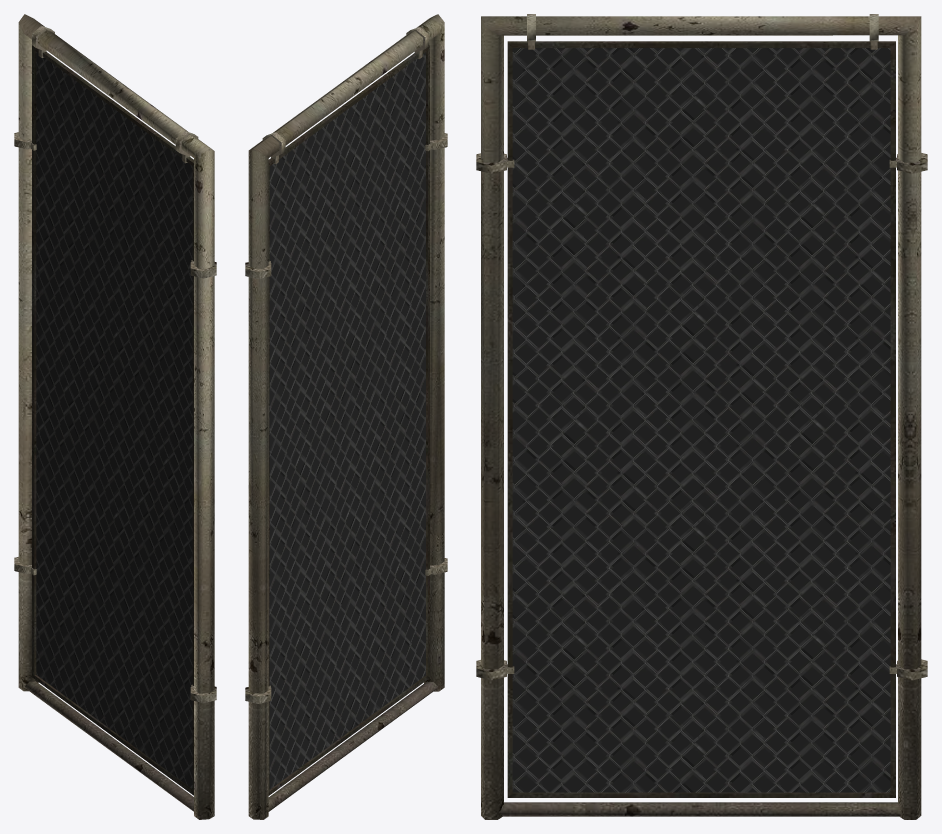
File: interior_fence002b.glb
The picture shows the model from 3 angles, left to right: view 1: azimuth 30°, elevation 25°; view 2: azimuth 150°, elevation 25°; view 3: azimuth 270°, elevation 25°; orthographic projection. The views are drawn at different scales.
Visible parts, largest first — view 1: 1_fence_alpha, 0_prison_yard001; view 2: 1_fence_alpha, 0_prison_yard001; view 3: 1_fence_alpha, 0_prison_yard001.
Boxes of the visible parts, x1,y1,x2,y2 form: 1_fence_alpha: [36, 52, 192, 788]; 0_prison_yard001: [14, 14, 216, 819]; 1_fence_alpha: [269, 52, 425, 789]; 0_prison_yard001: [245, 14, 447, 819]; 1_fence_alpha: [512, 48, 890, 792]; 0_prison_yard001: [476, 14, 927, 819].
Size of the model in its own units: 0.1313 by 3.27 by 1.67.
Materials: 2 (2 with a texture image).
